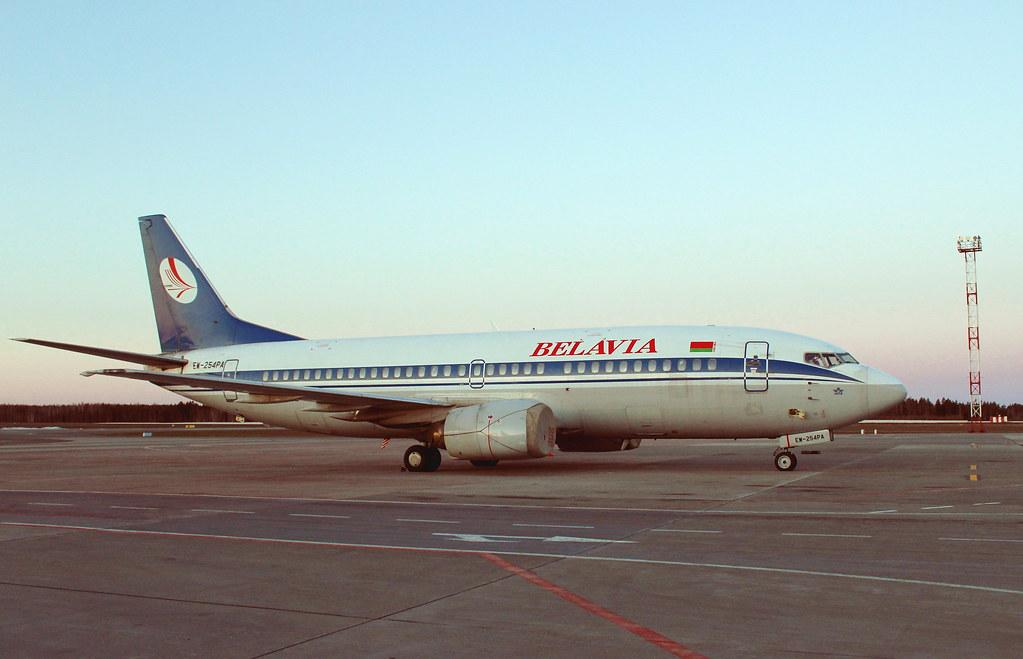plane: (9, 213, 909, 473)
